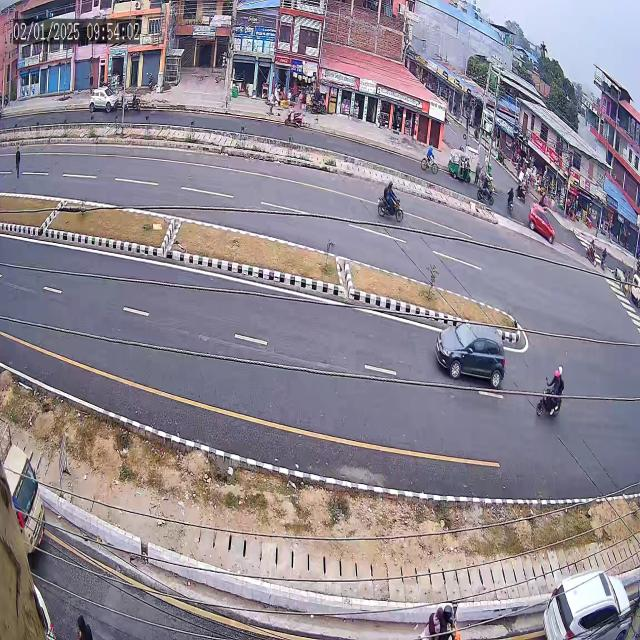car: (422, 300, 514, 414), (526, 197, 559, 250)
cycle: (419, 132, 441, 186)
motorcycle: (532, 351, 572, 432), (367, 173, 407, 228), (477, 166, 498, 210)
